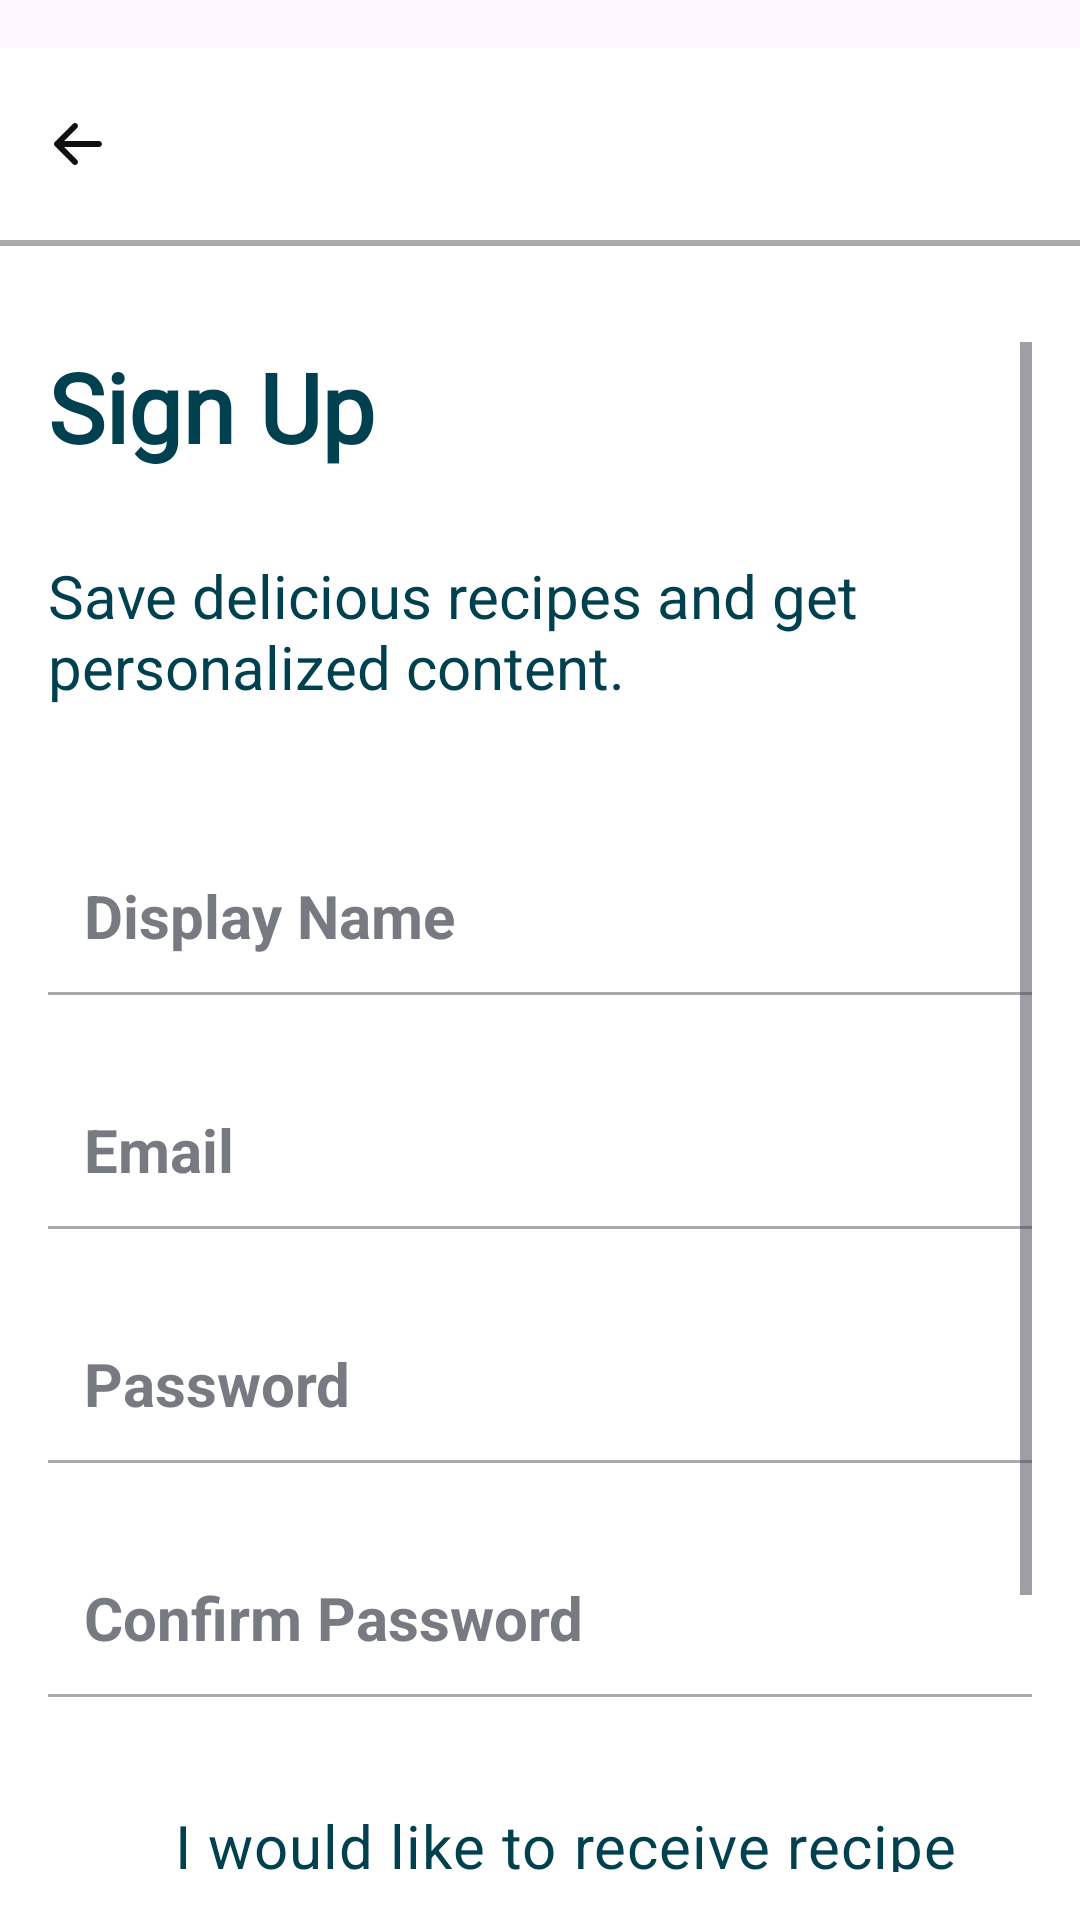

Named icons in this screenshot (1080px×1920px) and their centers, point (x, y):
arrowback: point (78, 144)
